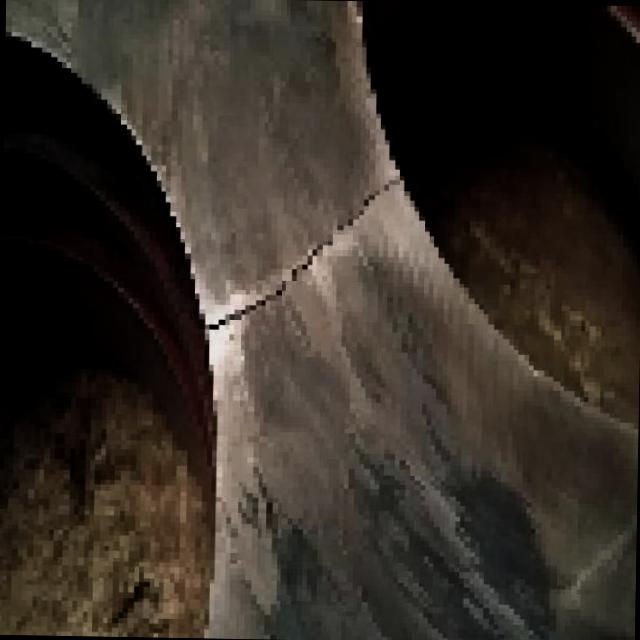crack: (332, 176, 397, 238), (208, 289, 280, 330), (284, 236, 330, 284)
